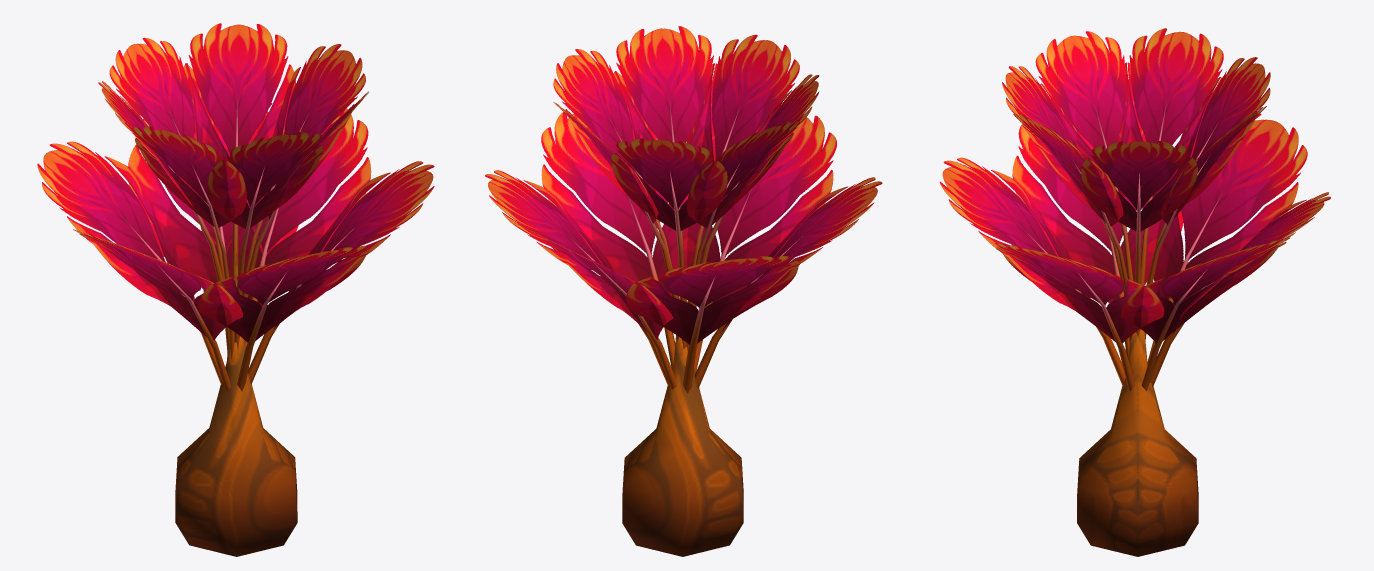
File: Red_Tree_01b.FBX
The picture shows the model from 3 angles, left to right: view 1: azimuth 30°, elevation 25°; view 2: azimuth 150°, elevation 25°; view 3: azimuth 270°, elevation 25°; orthographic projection.
Parts seen in each view (by area): view 1: Red_Tree_01b; view 2: Red_Tree_01b; view 3: Red_Tree_01b.
Boxes of the visible parts, bbox=[...] form: Red_Tree_01b: bbox=[37, 23, 434, 556]; Red_Tree_01b: bbox=[485, 26, 882, 556]; Red_Tree_01b: bbox=[939, 28, 1330, 556].
Bounding box in the file's own units: 137 × 158 × 133.
